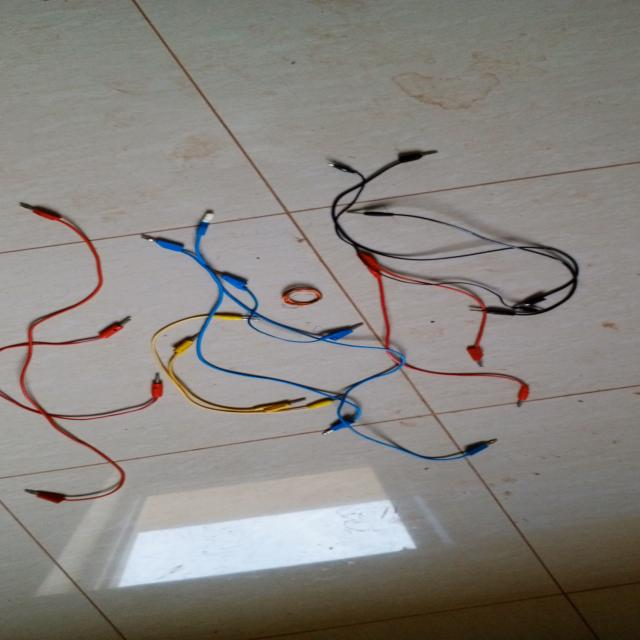BNC Cable: (0, 131, 604, 515)
